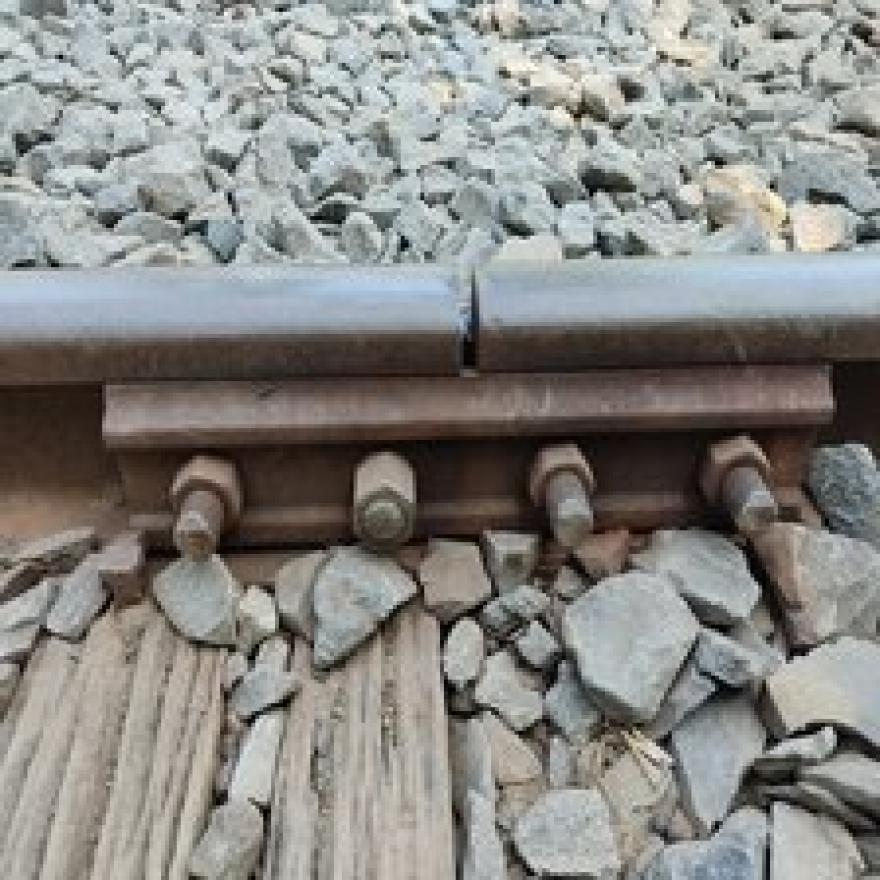railway-gap: (383, 235, 543, 394)
